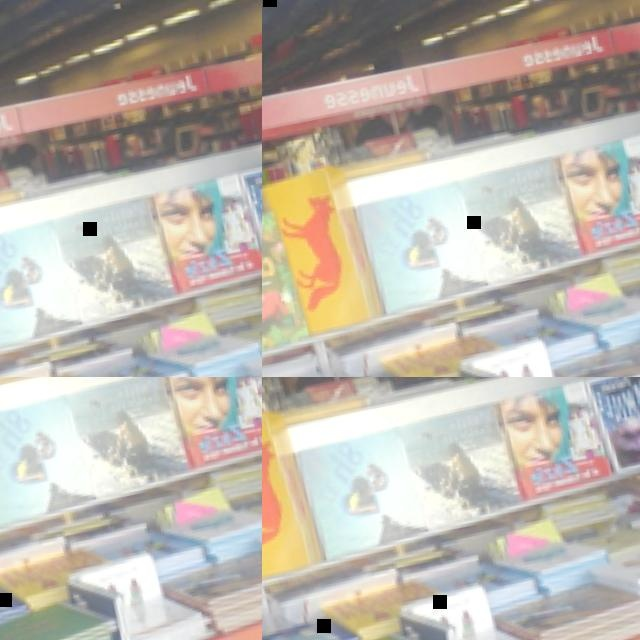machinery: (0, 0, 262, 377)
